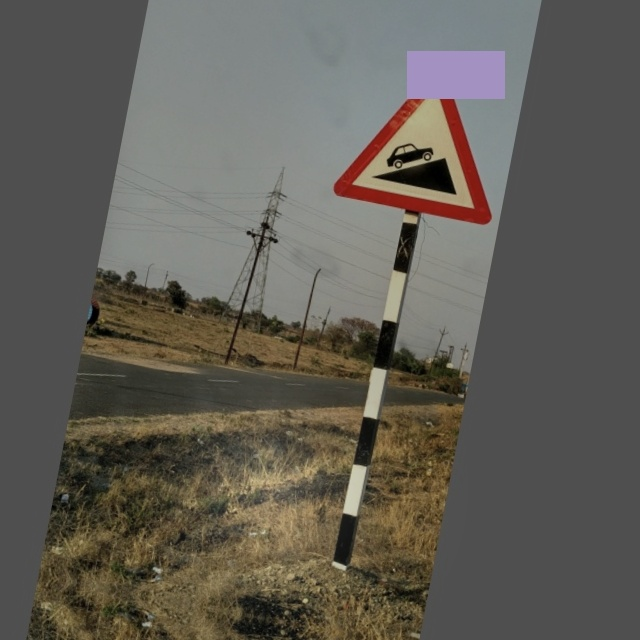Steep_Ascent: (322, 47, 522, 234)
